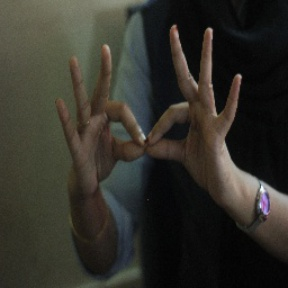B: (93, 82, 205, 177)
